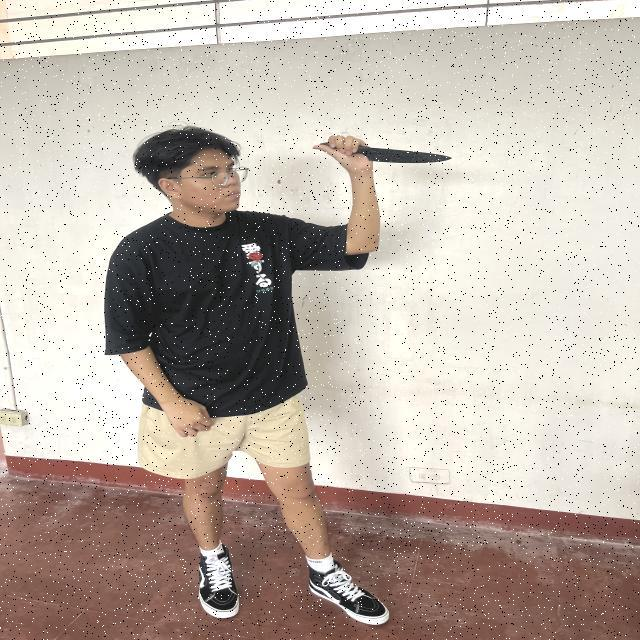knife: (311, 135, 450, 164)
non-violence: (103, 126, 451, 624)
